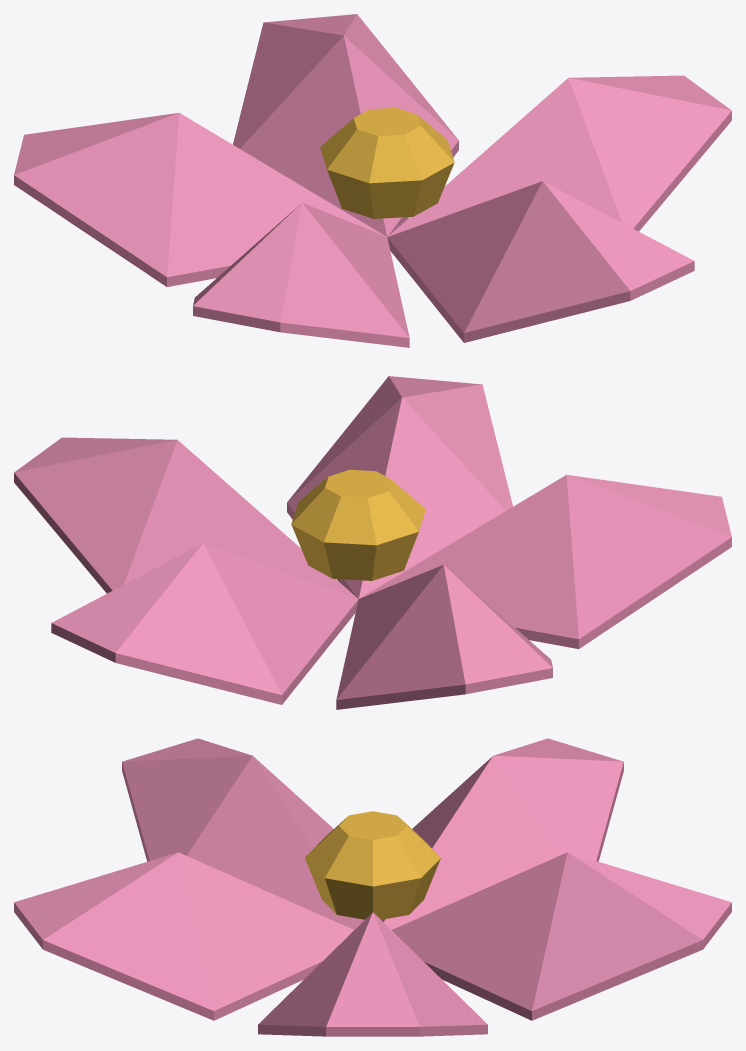
3 views of the same model, one above another, from view 1: azimuth 30°, elevation 25°; view 2: azimuth 150°, elevation 25°; view 3: azimuth 270°, elevation 25° (orthographic). The views are drawn at different scales.
Visible parts, largest first — view 1: 完整纸花_2.001; view 2: 完整纸花_2.001; view 3: 完整纸花_2.001.
Part boxes in pixels (x1,y1,x2,y2): 完整纸花_2.001: [14, 14, 731, 347]; 完整纸花_2.001: [14, 376, 731, 709]; 完整纸花_2.001: [14, 738, 731, 1036].
Size of the model in its own units: 0.1923 by 0.038 by 0.2022.
